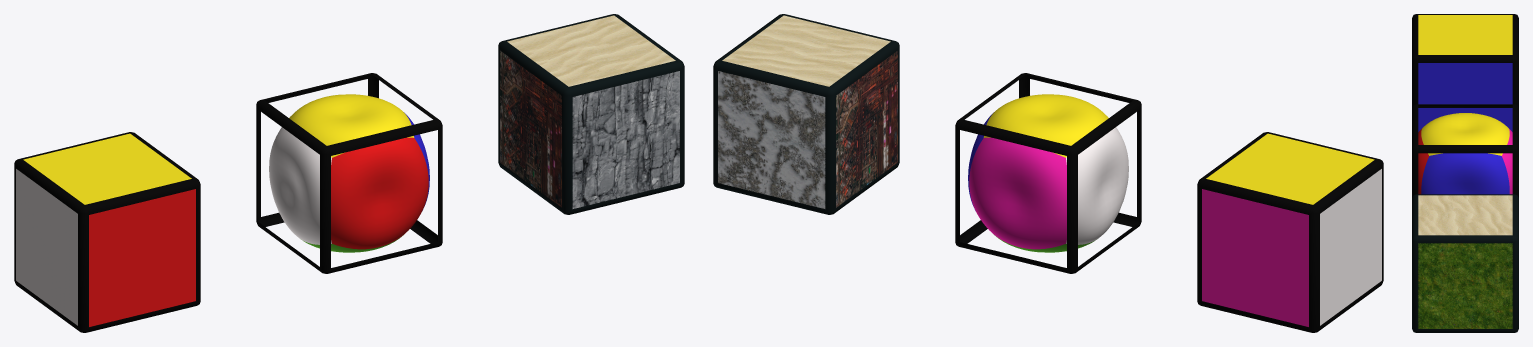
Rendered from rbik1.glb.
3 renders of one model, left to right at view 1: azimuth 30°, elevation 25°; view 2: azimuth 150°, elevation 25°; view 3: azimuth 270°, elevation 25°, orthographic. The views are drawn at different scales.
Parts seen in each view (by area): view 1: Cube.001, Cube.003, Cube.002; view 2: Cube.001, Cube.003, Cube.002; view 3: Cube.003, Cube.001, Cube.002.
Part boxes in pixels (left/top/right/bottom): Cube.001: left=14, top=132, right=200, bottom=332; Cube.003: left=498, top=14, right=684, bottom=214; Cube.002: left=256, top=73, right=442, bottom=273; Cube.001: left=1197, top=132, right=1383, bottom=332; Cube.003: left=713, top=14, right=899, bottom=214; Cube.002: left=955, top=73, right=1141, bottom=273; Cube.003: left=1412, top=194, right=1518, bottom=332; Cube.001: left=1412, top=14, right=1518, bottom=131; Cube.002: left=1412, top=104, right=1518, bottom=197.
Size of the model in its own units: 5 by 1 by 1.
Materials: 2 (2 with a texture image).
